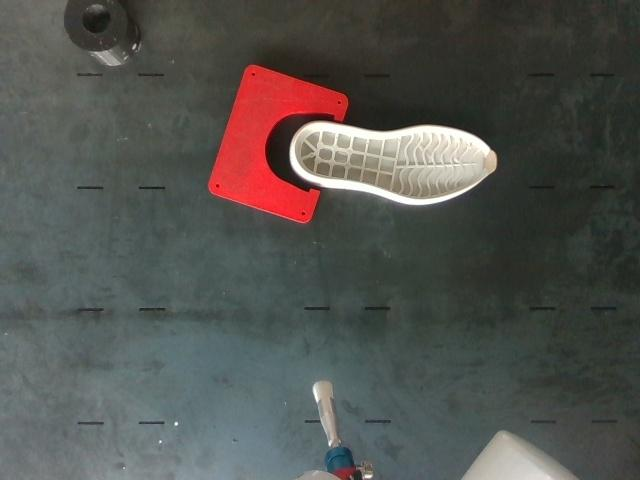shoes: (295, 123, 496, 200)
